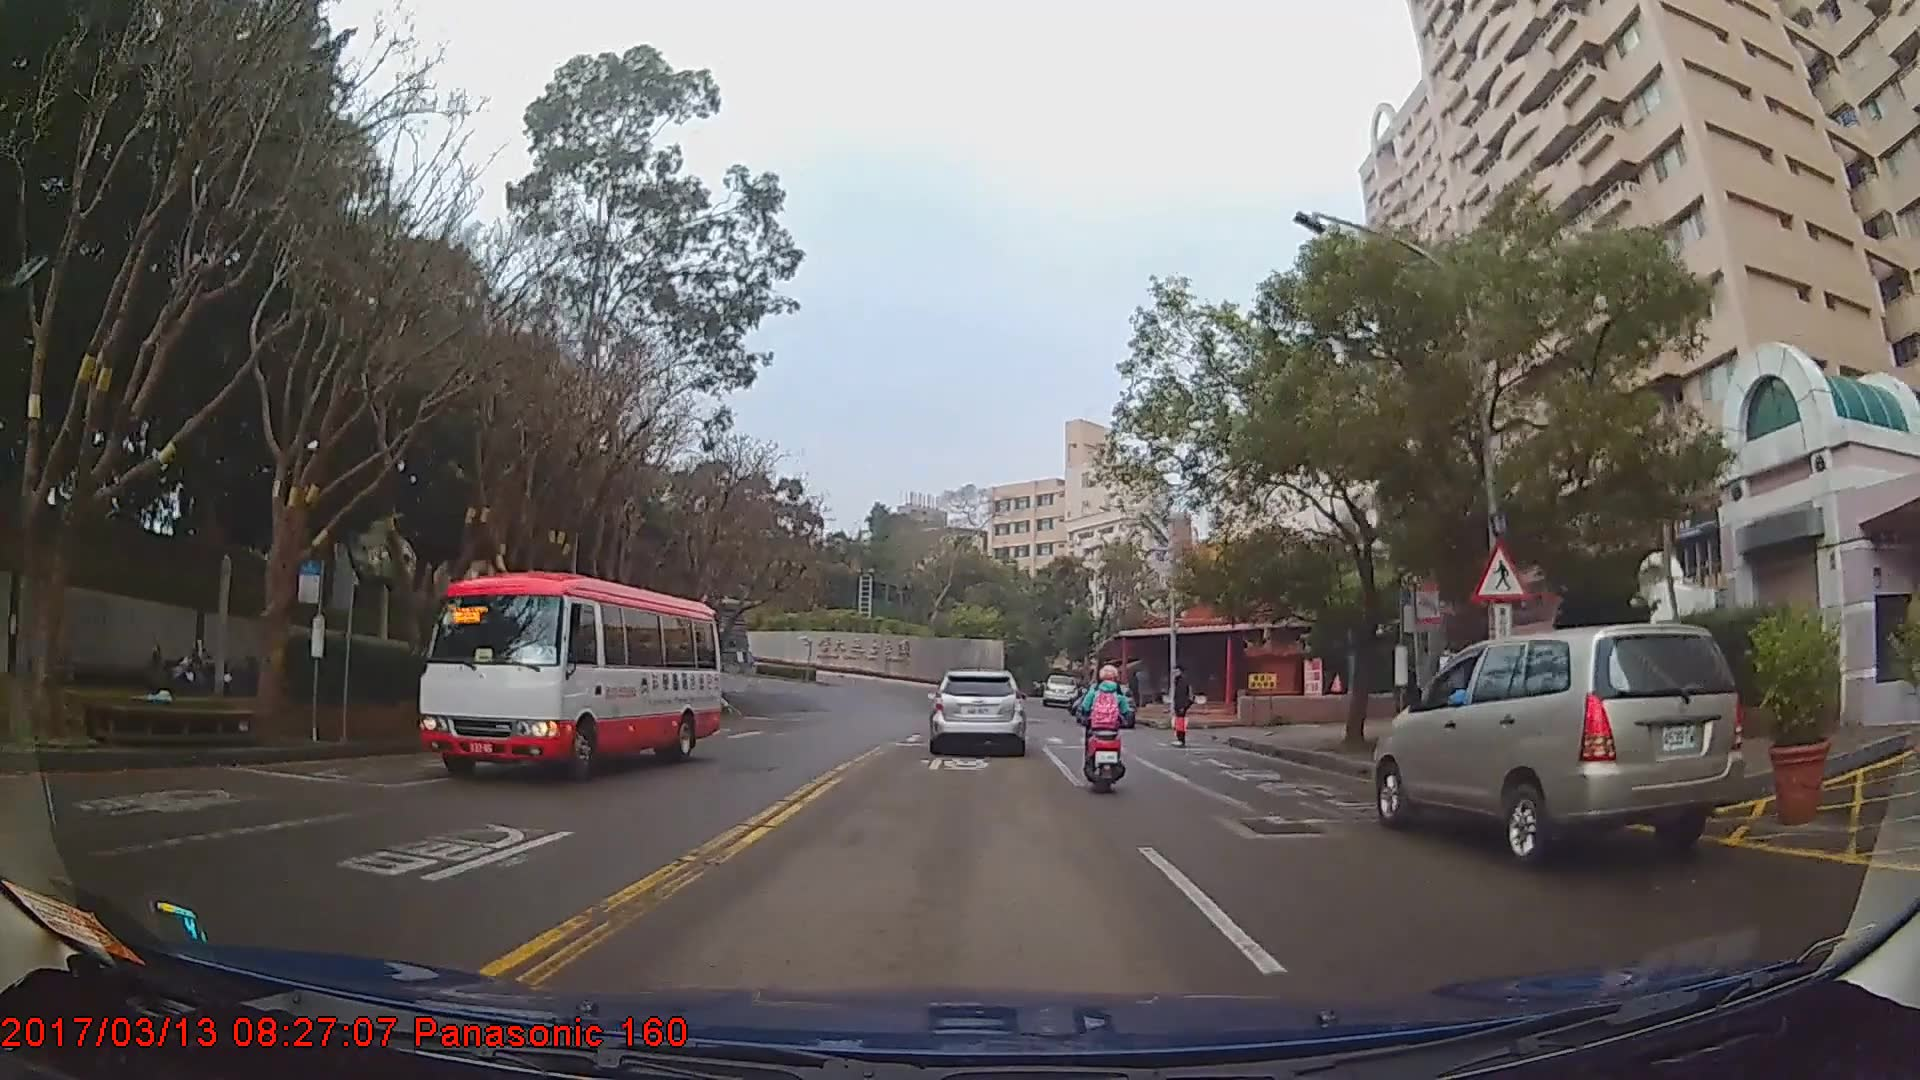pedestrian: (1168, 668, 1196, 751)
rider: (1075, 666, 1132, 796)
vehicle: (1374, 621, 1744, 863), (421, 570, 721, 782), (925, 669, 1027, 756), (1043, 673, 1080, 705)
